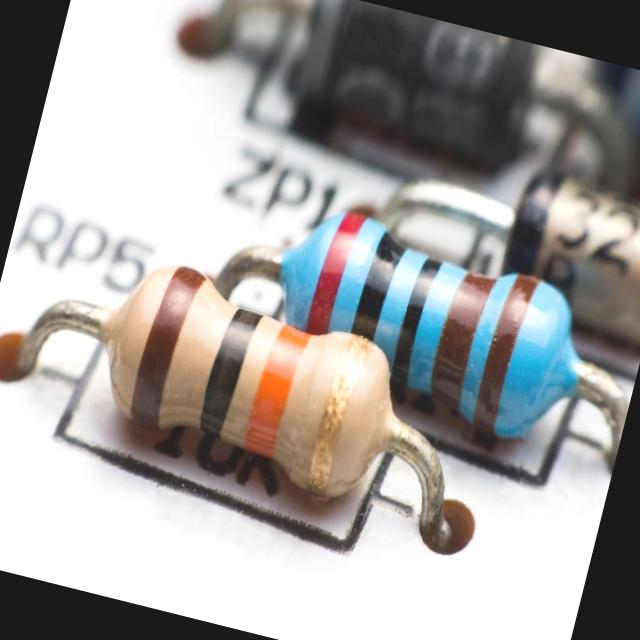Resistor: (278, 212, 579, 436), (106, 266, 393, 496)
black: (200, 303, 262, 450), (391, 251, 441, 397), (353, 232, 408, 339)
brown: (125, 262, 207, 442), (473, 269, 538, 447), (430, 267, 495, 426)
gold: (306, 335, 371, 513)
orange: (242, 320, 311, 461)
red: (306, 208, 365, 342)
